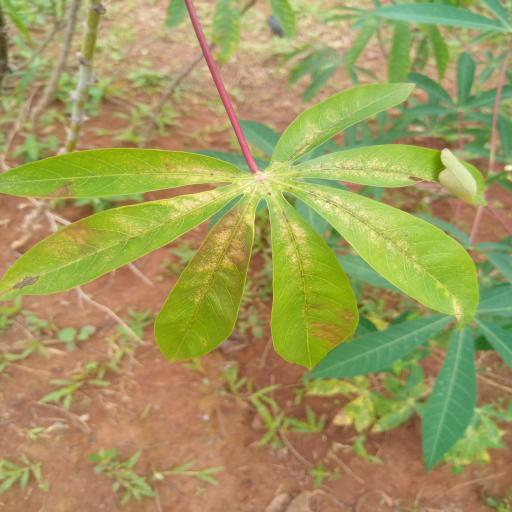Cassava_Mosaic: (3, 79, 486, 378)
